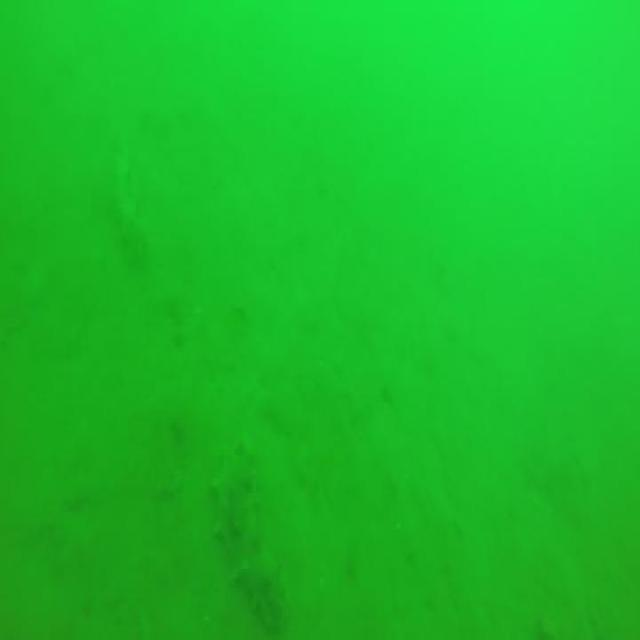holothurian: (209, 434, 291, 640), (103, 133, 146, 264)
